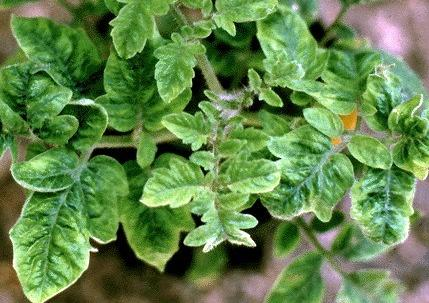Tomato leaf yellow virus: (4, 147, 117, 303), (265, 127, 370, 232), (4, 14, 104, 107), (343, 156, 429, 254), (257, 3, 325, 78), (141, 155, 217, 220), (107, 0, 179, 65), (215, 149, 290, 203), (206, 0, 284, 37)
